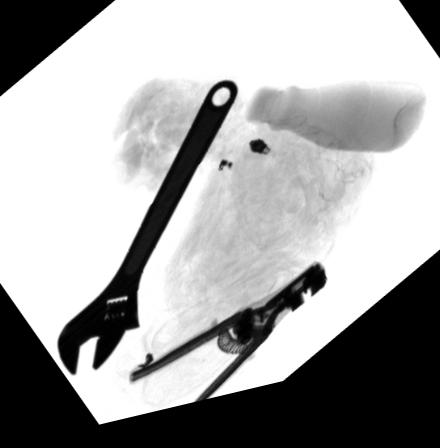Pliers: (126, 274, 323, 412)
Wrench: (55, 89, 238, 379)
